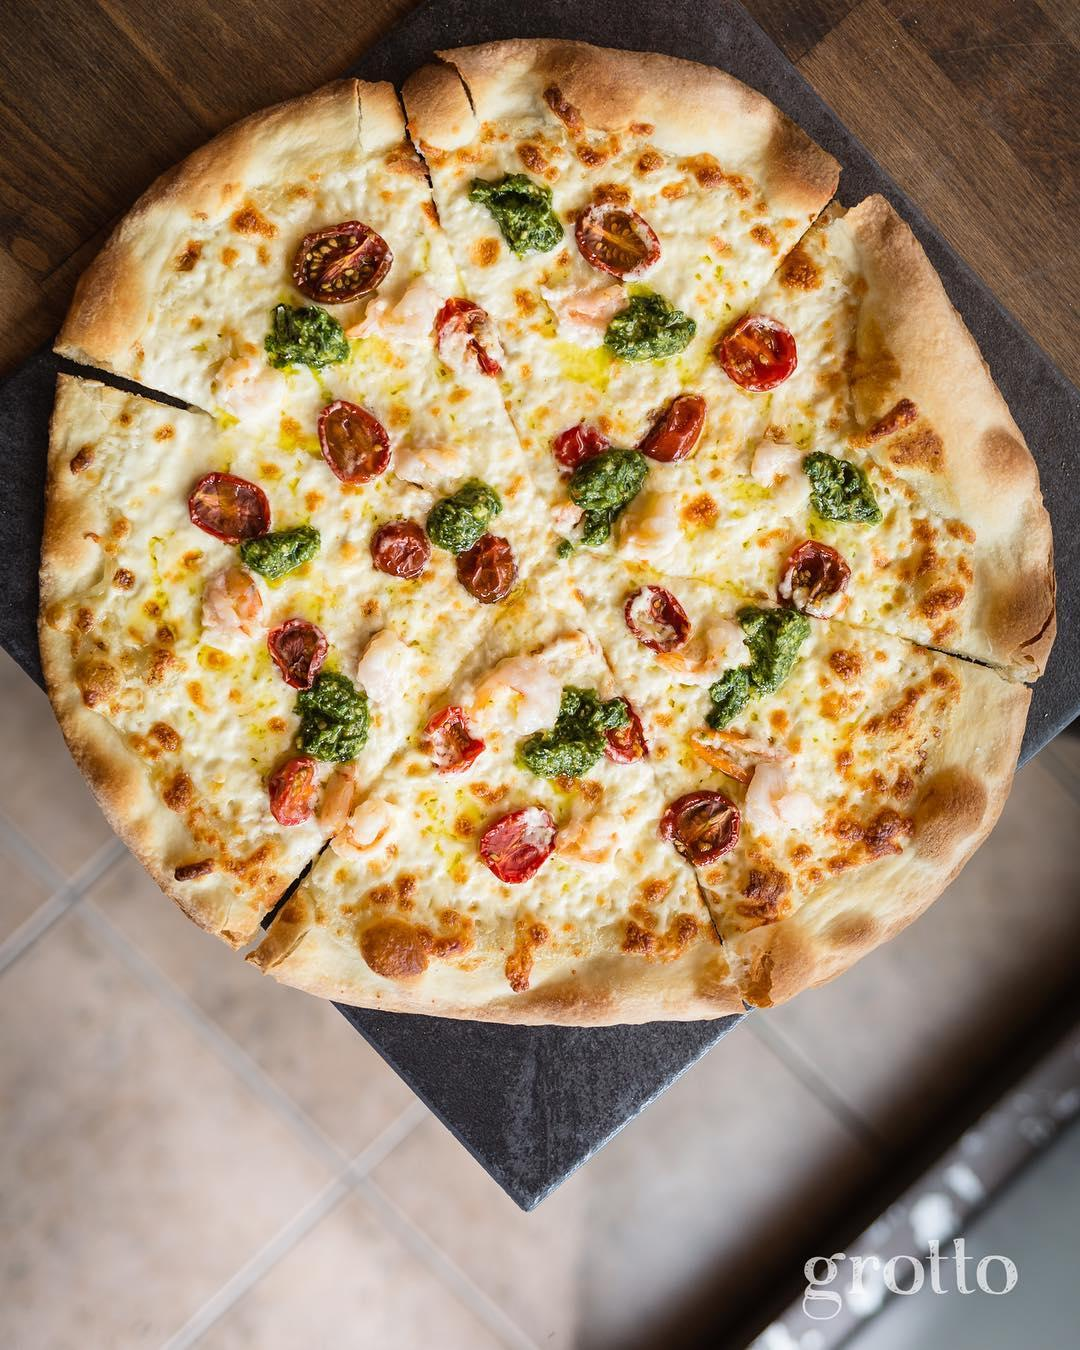Pizza: (54, 46, 1062, 1026)
Tomatoes: (294, 223, 391, 294), (717, 316, 796, 392), (582, 202, 660, 278), (317, 400, 390, 482), (660, 791, 742, 864), (484, 806, 554, 881), (190, 473, 270, 536), (440, 300, 500, 377), (781, 541, 846, 607), (628, 584, 689, 650), (270, 618, 323, 689), (455, 538, 512, 598), (429, 708, 482, 773), (649, 398, 703, 458), (269, 758, 311, 828), (372, 522, 423, 577), (600, 699, 645, 759), (555, 428, 602, 458)
